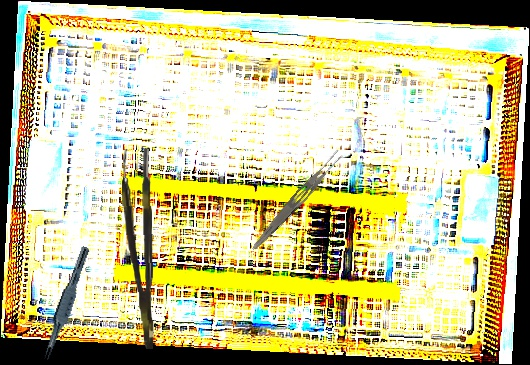Dressing Forceps: (249, 146, 346, 256)
Tissue Forceps: (120, 148, 157, 350), (40, 243, 91, 363)
